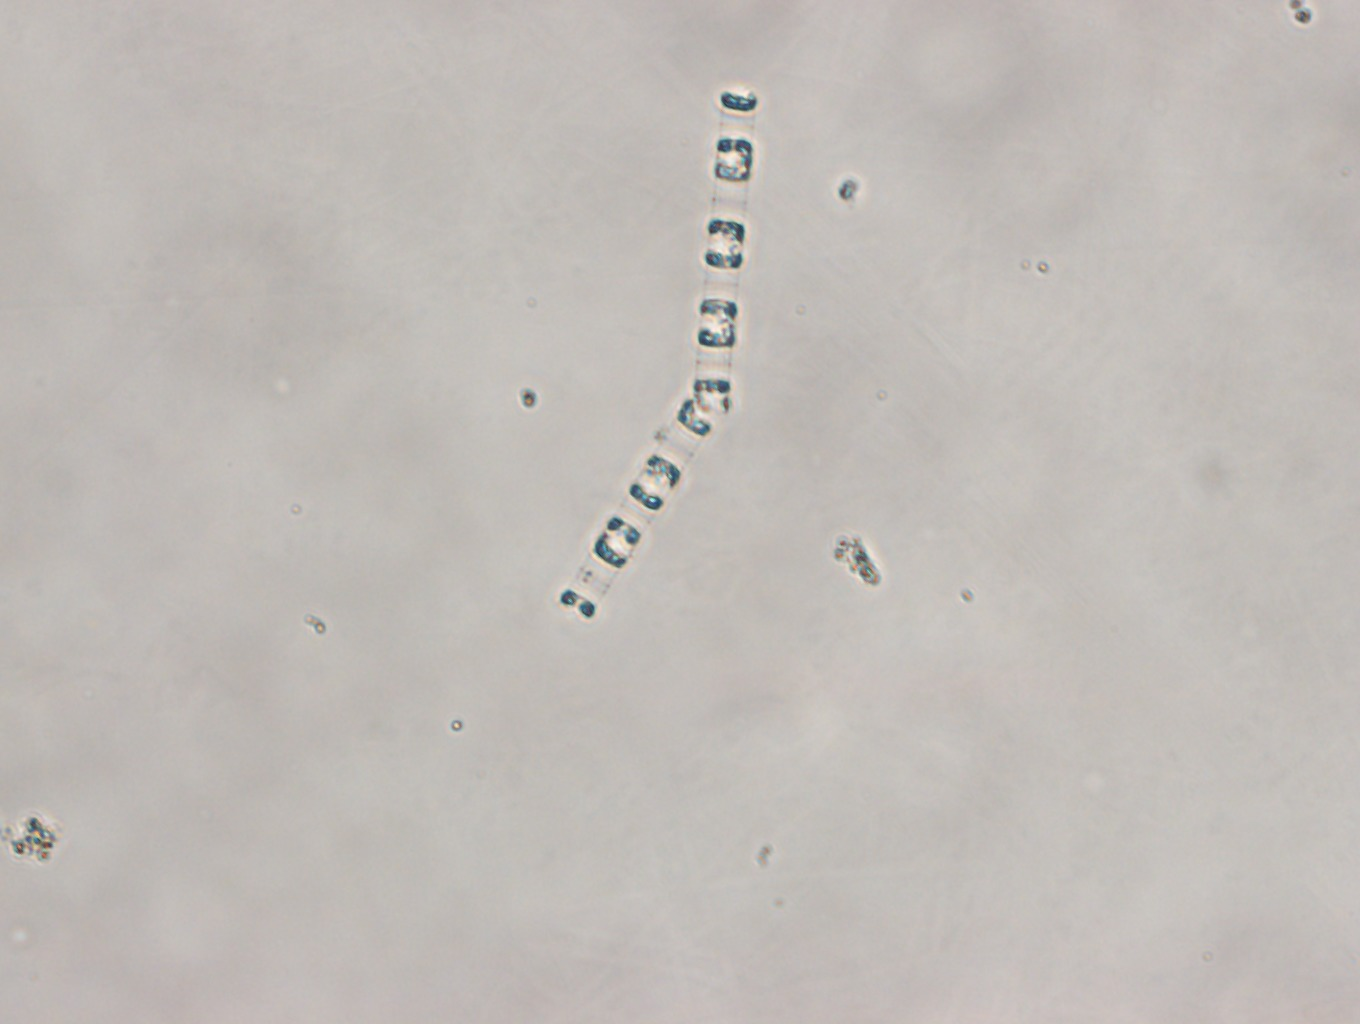skeletonema: (558, 89, 756, 620)
